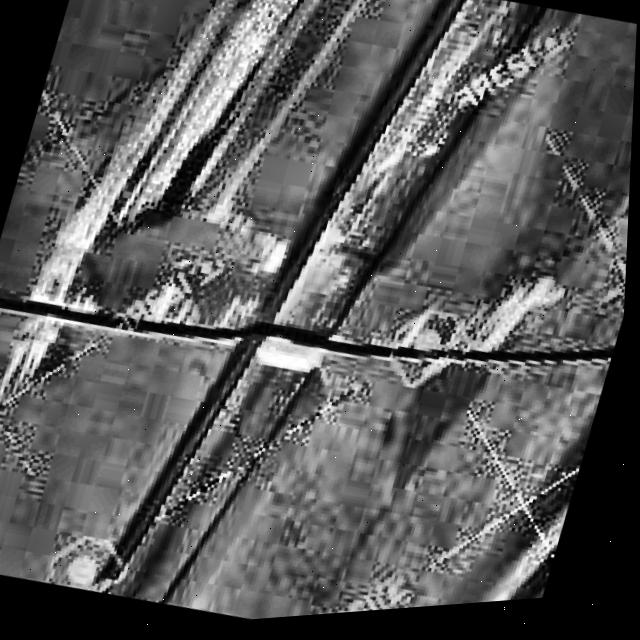door_scratch: (42, 0, 349, 344), (415, 229, 572, 392)
